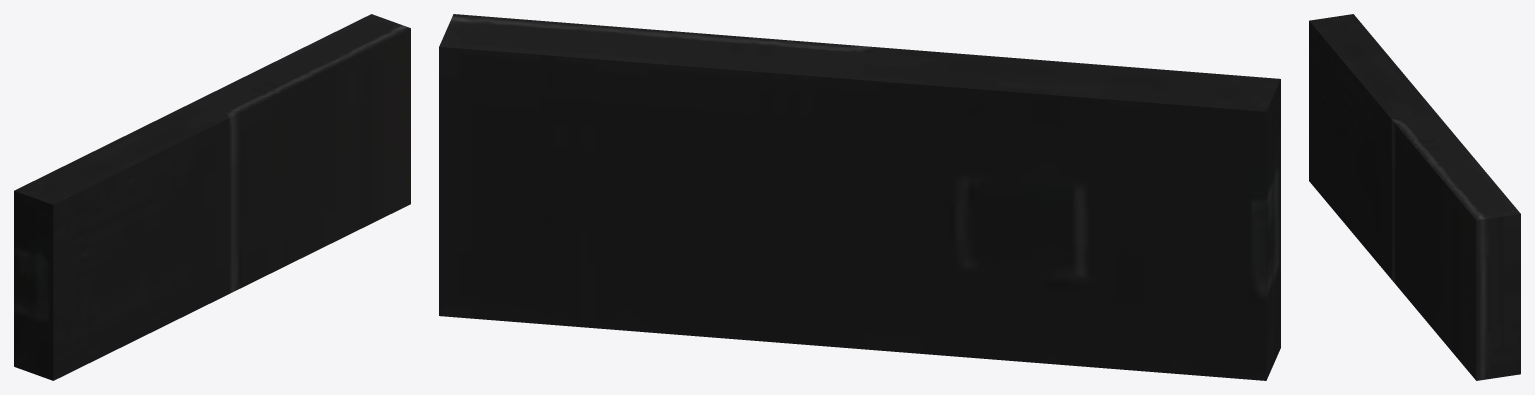
The model's file is backrest__selector_spine.glb.
3 renders of one model, left to right at view 1: azimuth 30°, elevation 25°; view 2: azimuth 150°, elevation 25°; view 3: azimuth 270°, elevation 25°, orthographic. The views are drawn at different scales.
Parts seen in each view (by area): view 1: world; view 2: world; view 3: world.
Part boxes in pixels (x1,y1,x2,y2): world: [14, 14, 410, 380]; world: [439, 14, 1280, 380]; world: [1309, 14, 1520, 380].
Size of the model in its own units: 0.1656 by 0.06 by 0.0718.
Materials: 1 (1 with a texture image).
